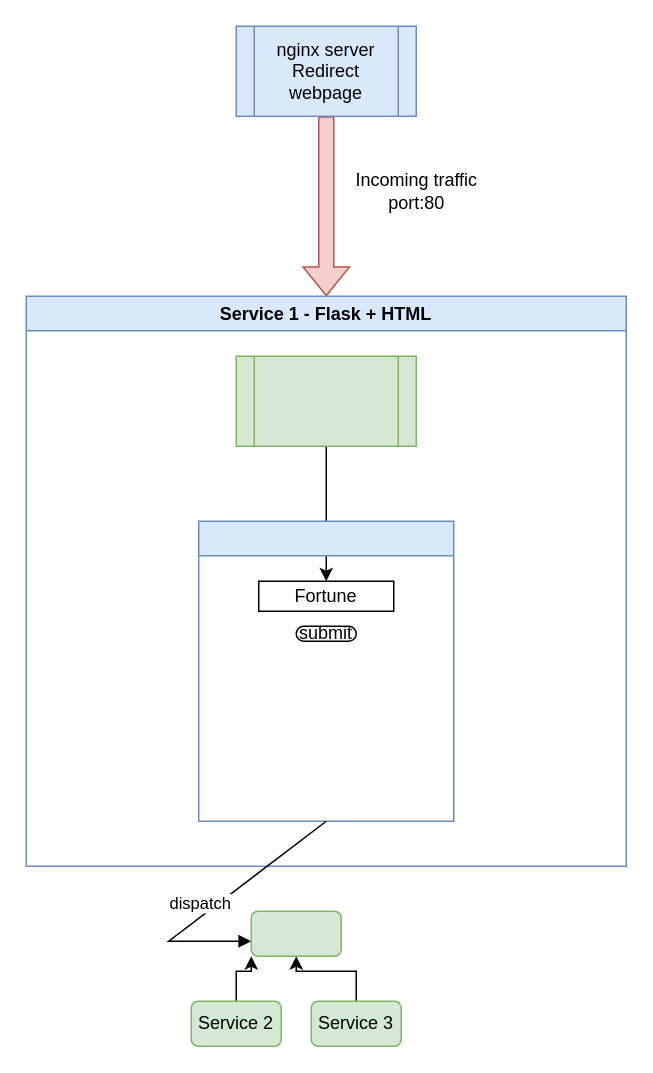
Some shapes in this 653 by 1073 pixel diagram are drawn without their labels. The shapes that lost their labels are listed below. From the top down, each one's box as (x1, y1, x2, y2) in pixels, then its label:
(235, 355, 416, 446): App.route
(197, 520, 454, 821): Homepage
(250, 910, 341, 956): Service 4
